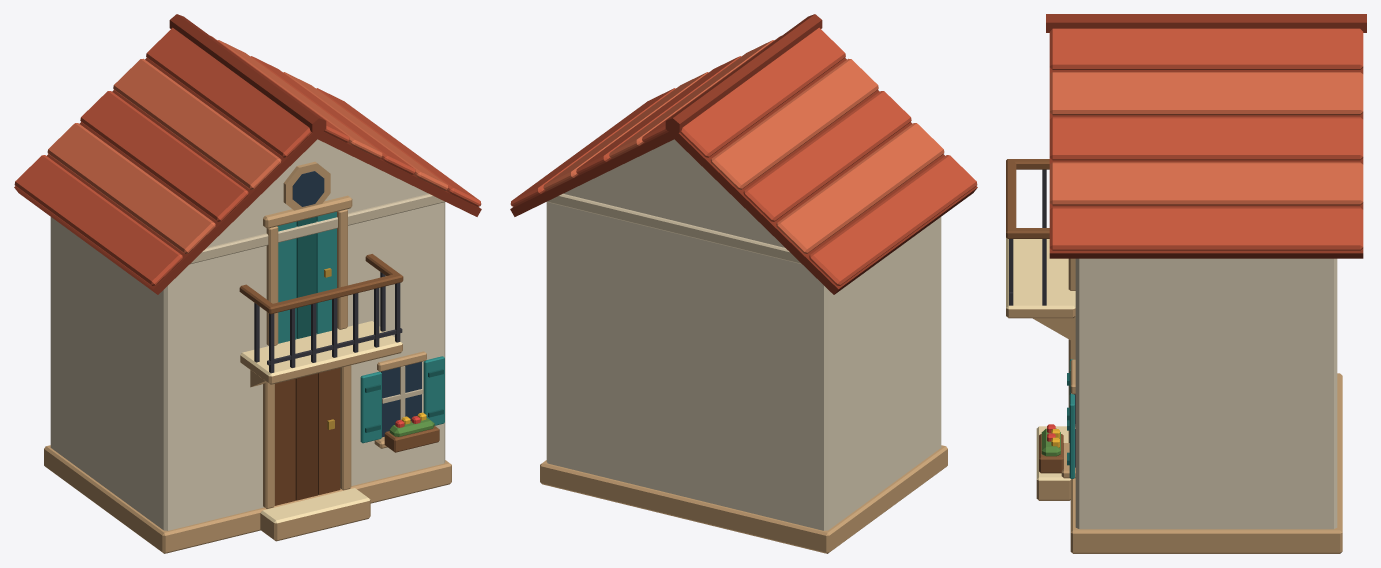
The model's file is house_b.glb.
3 renders of one model, left to right at view 1: azimuth 30°, elevation 25°; view 2: azimuth 150°, elevation 25°; view 3: azimuth 270°, elevation 25°, orthographic. The views are drawn at different scales.
Parts seen in each view (by area): view 1: house_b; view 2: house_b; view 3: house_b.
Part boxes in pixels (<box>): house_b: <box>14,14,481,553</box>; house_b: <box>510,14,977,553</box>; house_b: <box>1006,14,1366,553</box>.
Bounding box in the file's own units: 4.92 × 5.84 × 4.14.
Materials: 1 (1 with a texture image).
